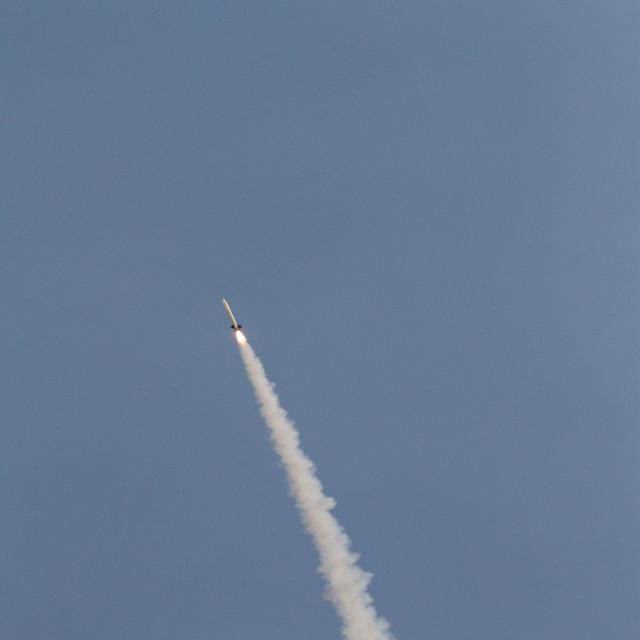Rocket: (222, 298, 242, 332)
